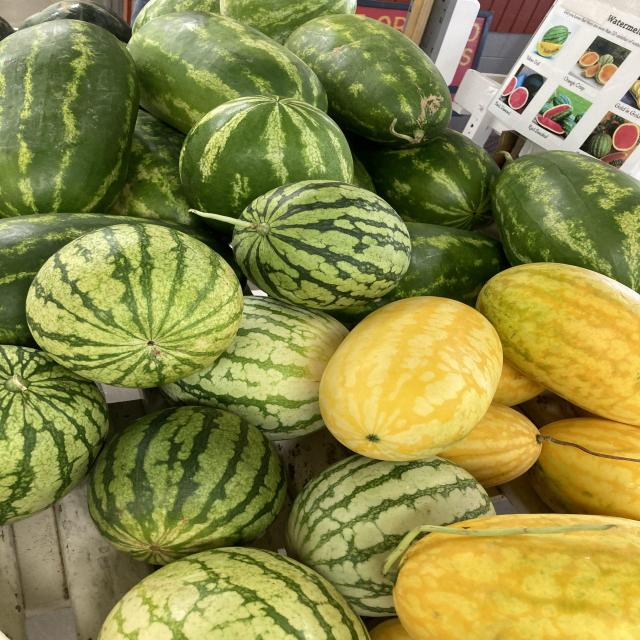watermelon: (27, 212, 245, 394), (295, 449, 496, 617), (383, 510, 640, 640), (87, 401, 287, 562), (318, 292, 500, 460), (105, 7, 336, 136), (0, 27, 148, 221), (165, 292, 351, 440), (93, 541, 371, 640), (272, 14, 465, 155), (478, 257, 640, 420), (491, 144, 640, 315), (182, 95, 369, 219), (225, 184, 408, 306), (0, 340, 115, 526), (515, 405, 640, 529), (362, 129, 505, 235)
